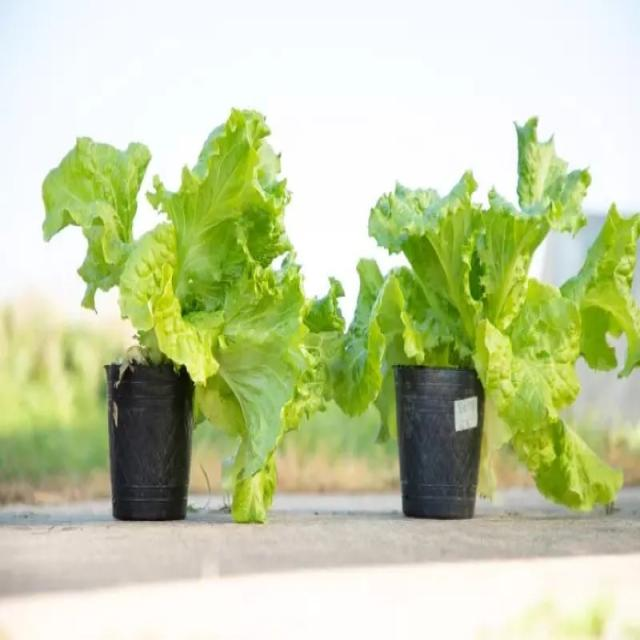inmadura: (338, 118, 639, 510), (42, 109, 323, 522)
